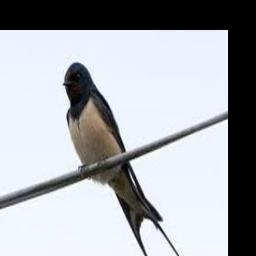Swallow: (62, 62, 192, 256)
